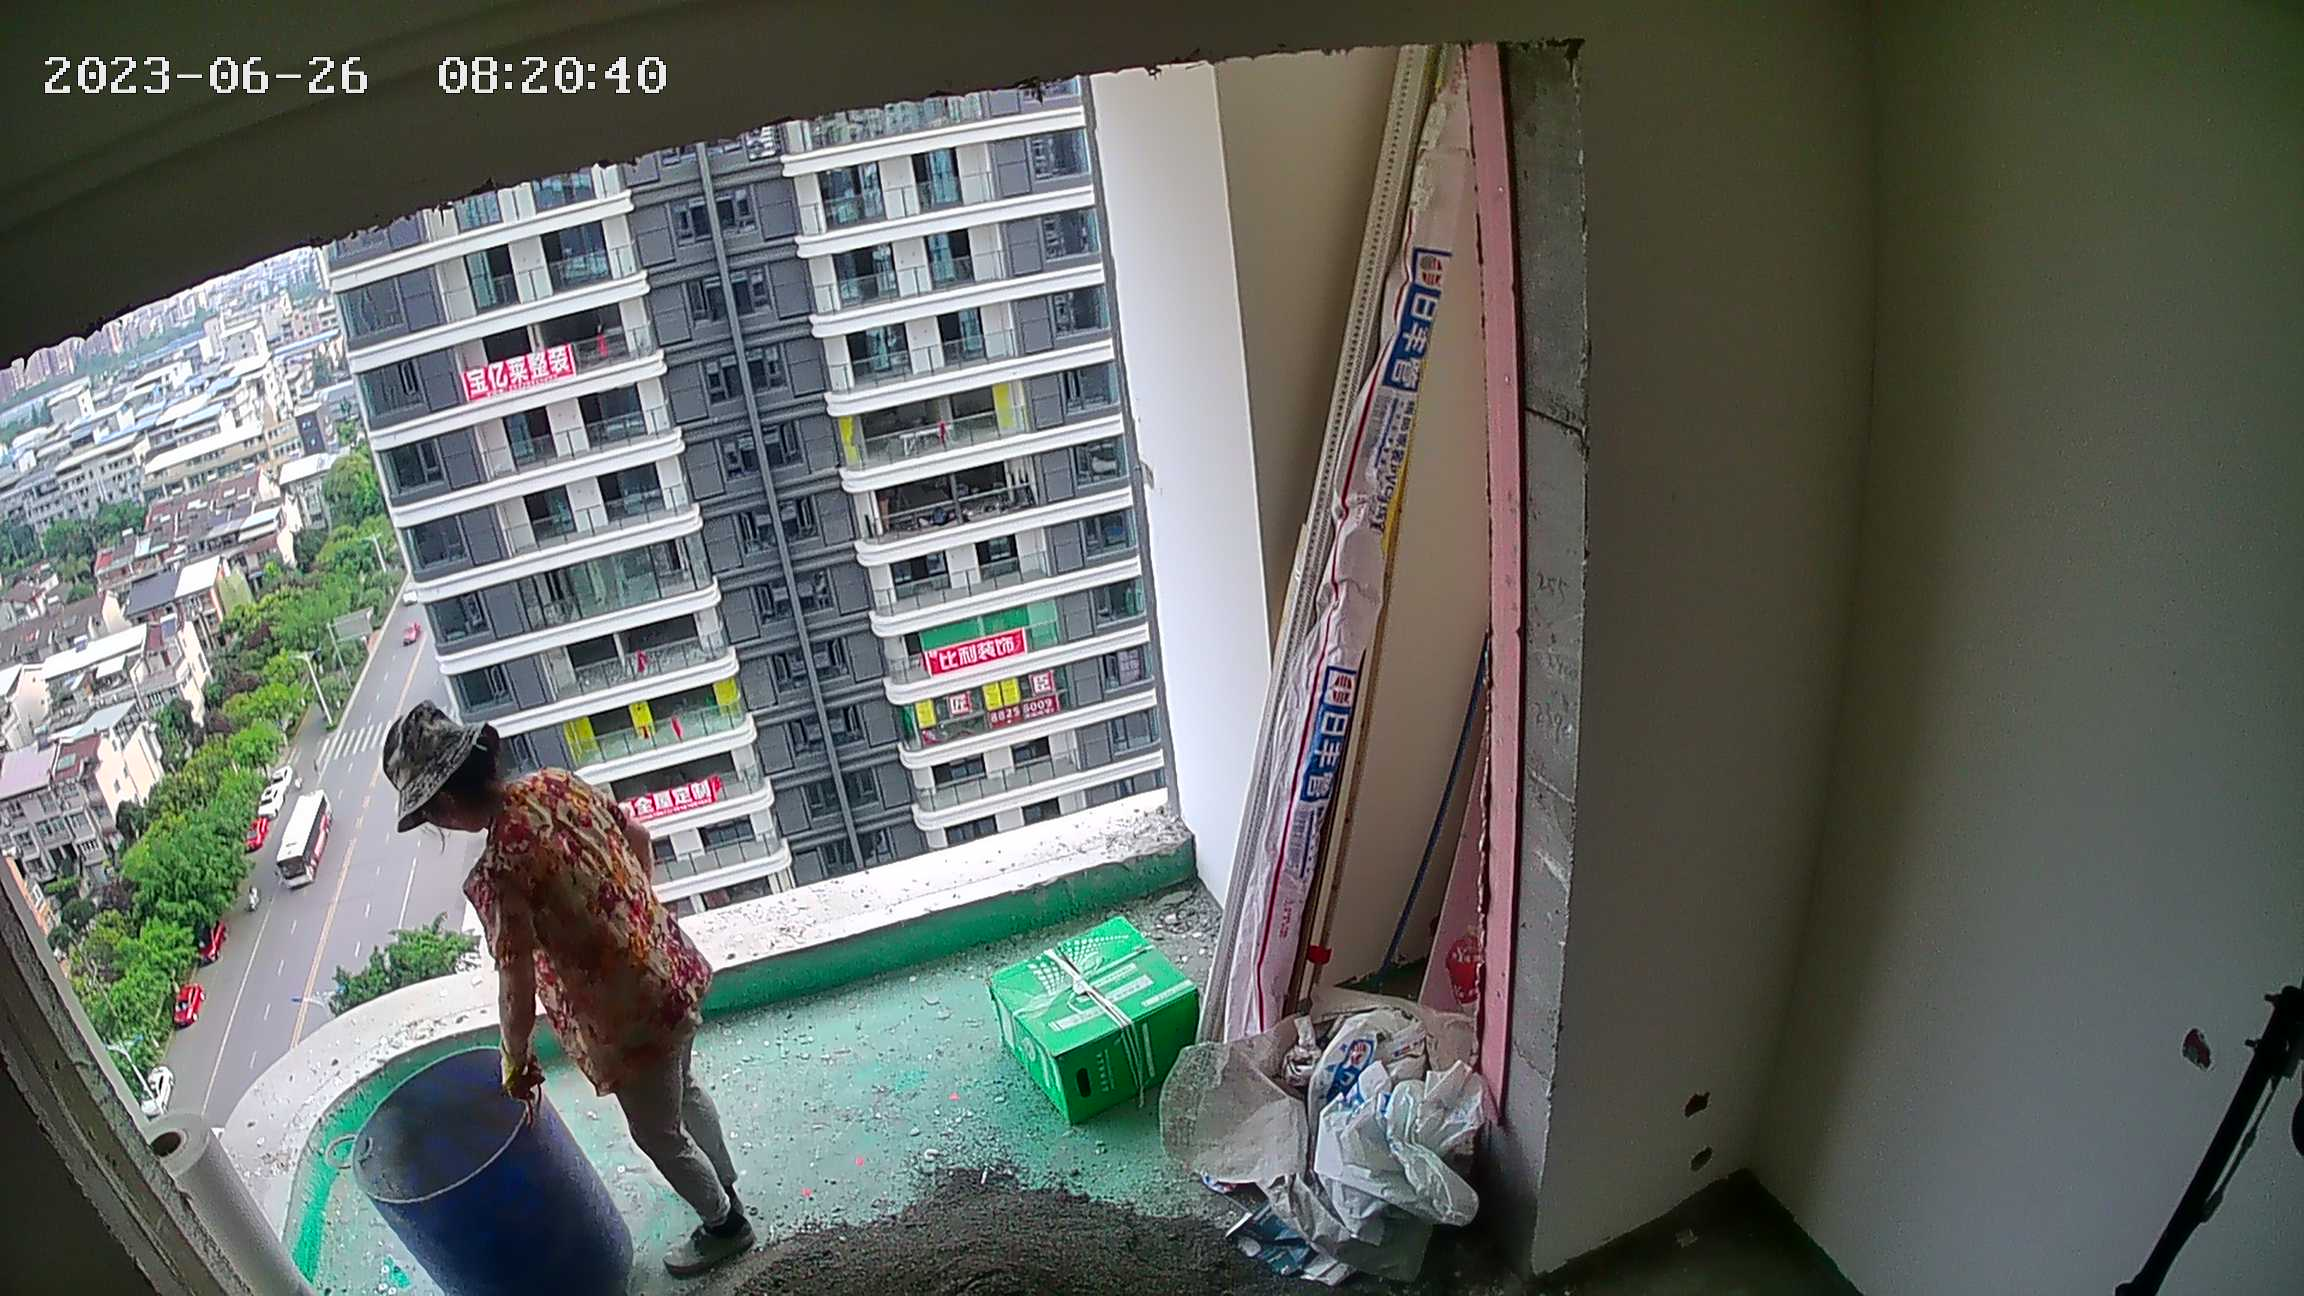people: (371, 708, 784, 1281)
window: (1, 126, 1213, 1005)
